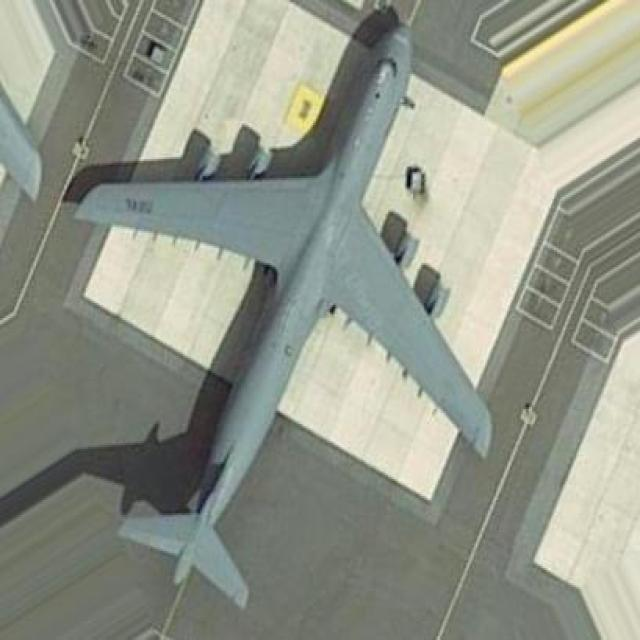C-5_TopDown: (59, 0, 494, 610)
